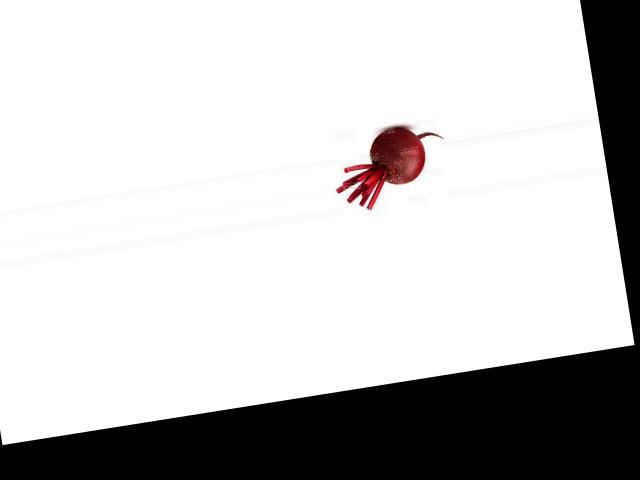beet: (327, 121, 452, 214)
